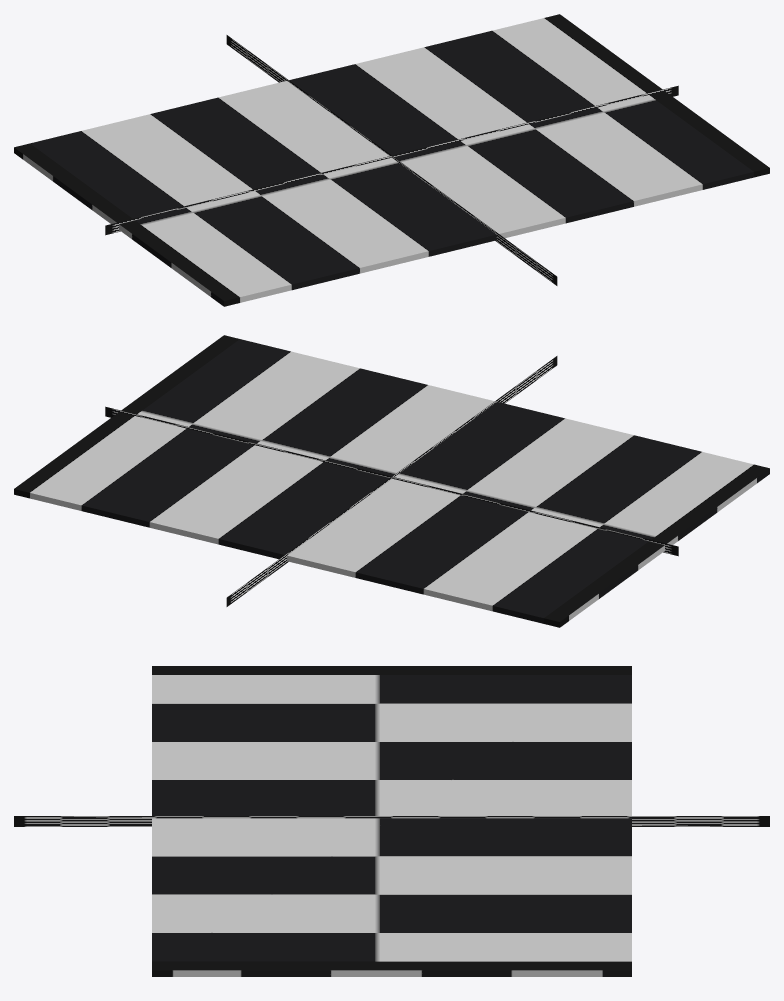
The model's file is mat_checkered_3x2.dae.
3 renders of one model, top to bottom at view 1: azimuth 30°, elevation 25°; view 2: azimuth 150°, elevation 25°; view 3: azimuth 270°, elevation 25°, orthographic. The views are drawn at different scales.
Visible parts, largest first — view 1: mat_checkered_3x2_a800, mat_checkered_3x2_a50, mat_checkered_3x2_a200; view 2: mat_checkered_3x2_a800, mat_checkered_3x2_a50, mat_checkered_3x2_a200; view 3: mat_checkered_3x2_a800, mat_checkered_3x2_a50.
Part boxes in pixels (left/top/right/bottom): mat_checkered_3x2_a800: left=14, top=14, right=769, bottom=306; mat_checkered_3x2_a50: left=105, top=35, right=678, bottom=285; mat_checkered_3x2_a200: left=14, top=148, right=208, bottom=293; mat_checkered_3x2_a800: left=14, top=335, right=769, bottom=627; mat_checkered_3x2_a50: left=105, top=356, right=678, bottom=606; mat_checkered_3x2_a200: left=70, top=492, right=742, bottom=627; mat_checkered_3x2_a800: left=152, top=666, right=631, bottom=976; mat_checkered_3x2_a50: left=14, top=816, right=769, bottom=826.
Bounding box in the file's own units: 3.15 × 3.15 × 0.051.
2 materials, 1 textured.
